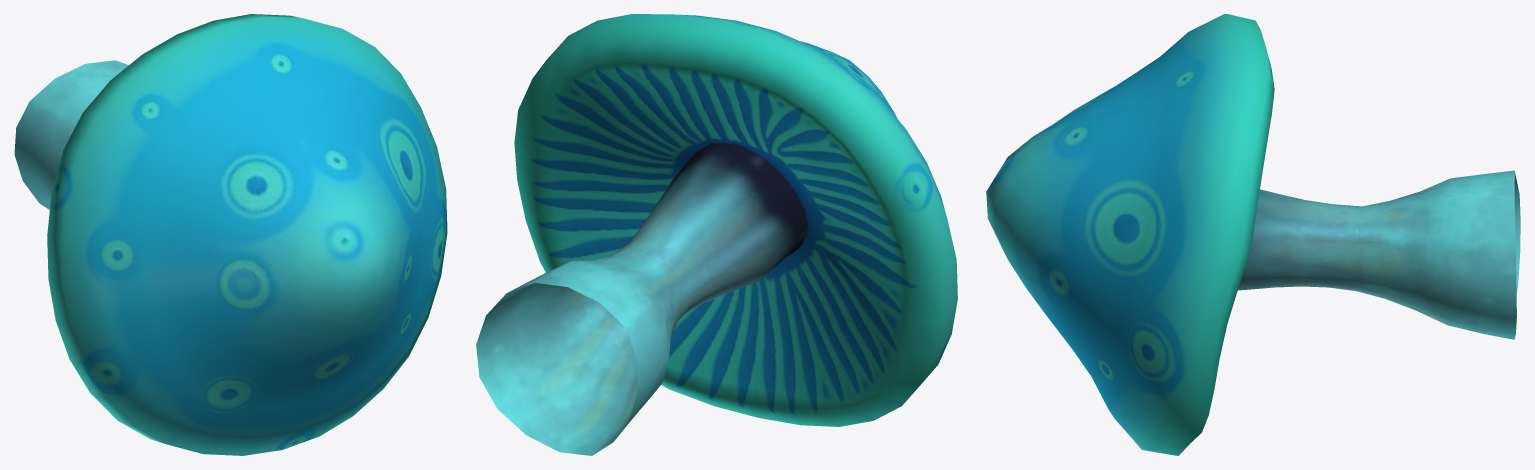
Rendered from mushroom1.obj.
3 renders of one model, left to right at view 1: azimuth 30°, elevation 25°; view 2: azimuth 150°, elevation 25°; view 3: azimuth 270°, elevation 25°, orthographic. The views are drawn at different scales.
Visible parts, largest first — view 1: defaultMaterial.001; view 2: defaultMaterial.001; view 3: defaultMaterial.001.
Boxes of the visible parts, bbox=[...] form: defaultMaterial.001: bbox=[14, 14, 447, 455]; defaultMaterial.001: bbox=[476, 14, 957, 455]; defaultMaterial.001: bbox=[986, 14, 1520, 455].
Size of the model in its own units: 0.00258 by 0.00251 by 0.00311.
2 materials, 2 textured.
